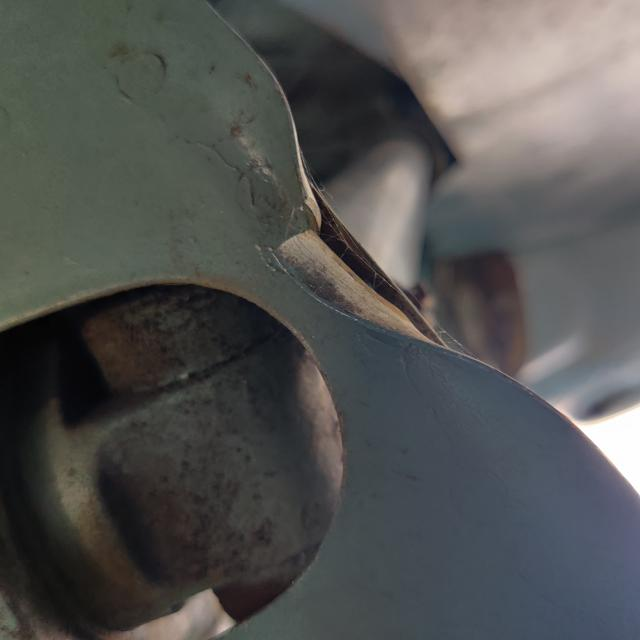crack: (258, 203, 339, 273)
